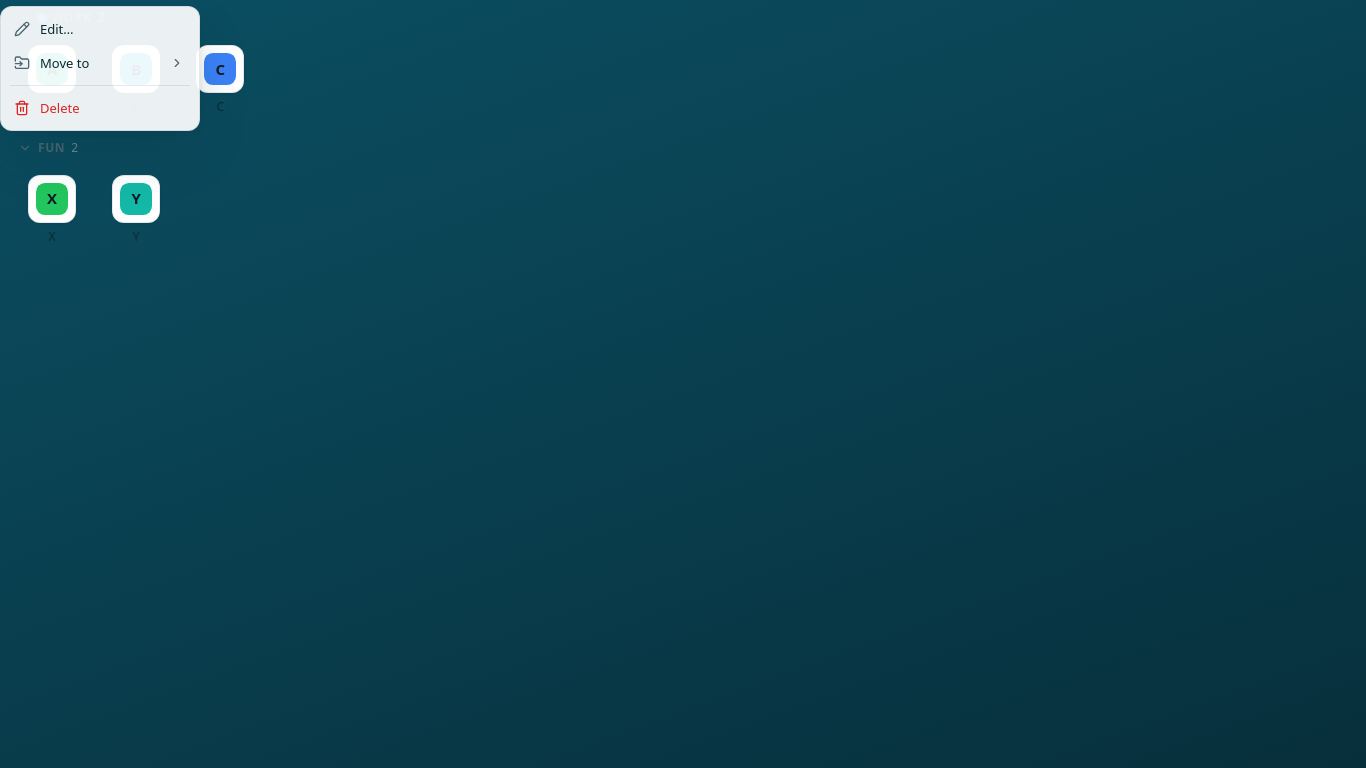
Scenario: Launch pad: tile menu outside edit mode (UX-6) › right-click opens Edit / Move to / Delete for a tile without entering edit mode
The width and height of the screenshot is (1366, 768).
Check: the menu item "Edit…" is shown, box [14,20,74,38]
Click the menu item "Delete" at (47, 108), box [14,98,80,116]
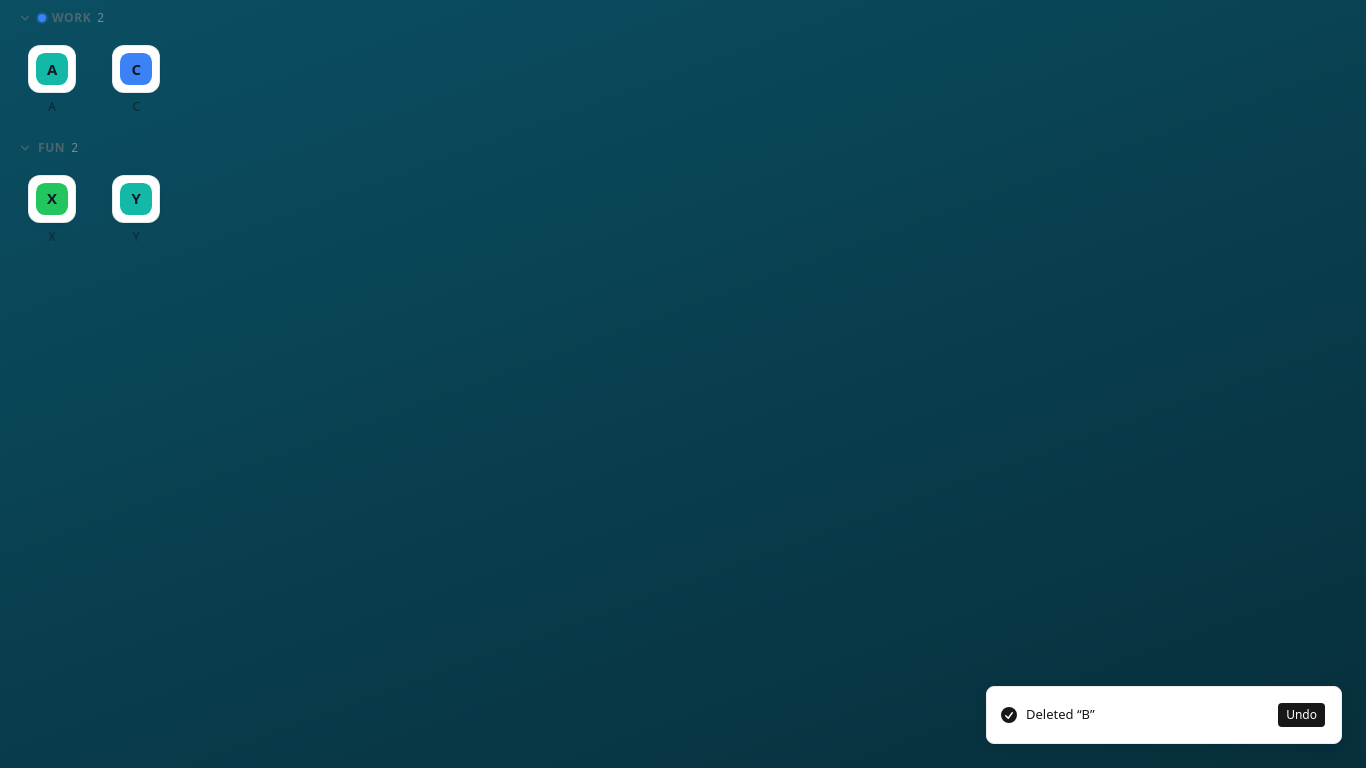
Check: the text "Deleted “B”" is shown, box [1026,705,1095,725]
